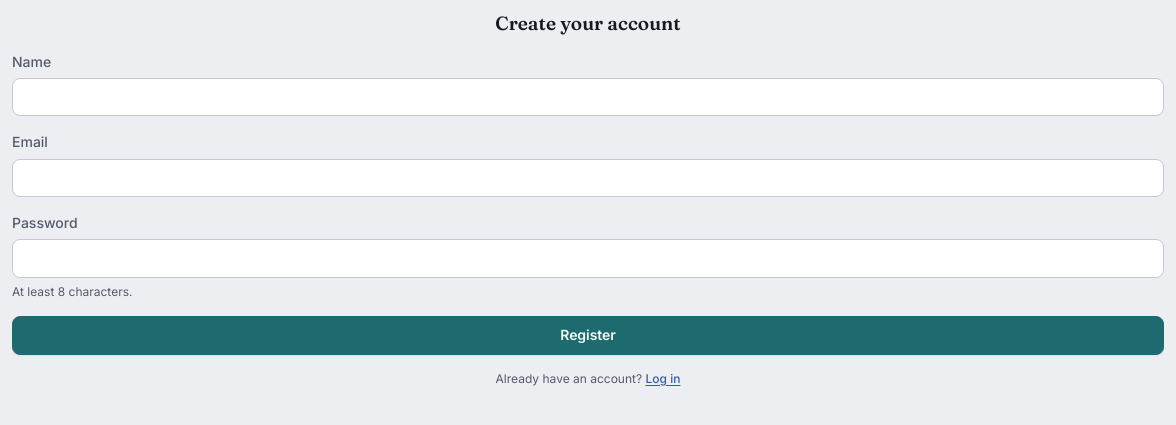
RegisterForm › requires a name
Type "ada@example.com" into the field labelled "Email". click: (588, 178)
box: [12,159,1164,197]
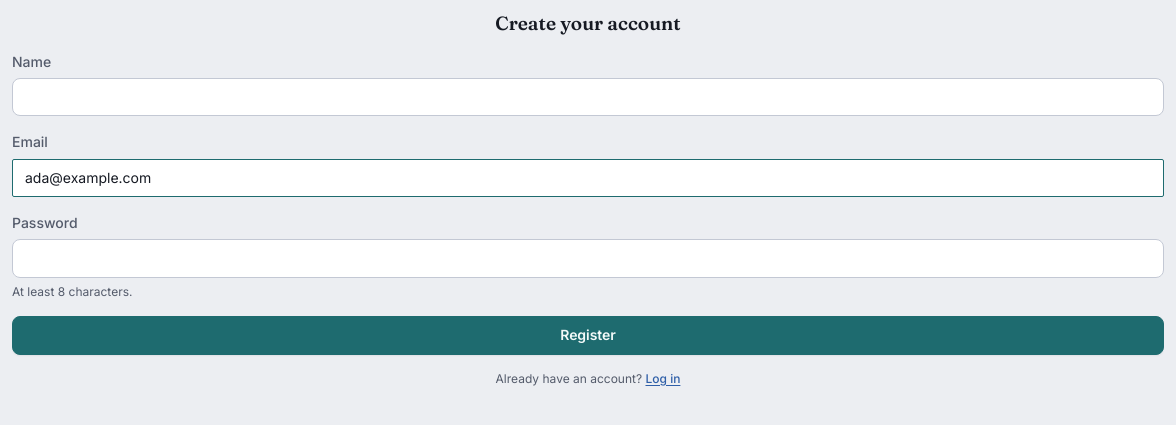
Type "longenoughpassword" into the password field labelled "Password". click: (588, 258)
box: [12,239,1164,278]
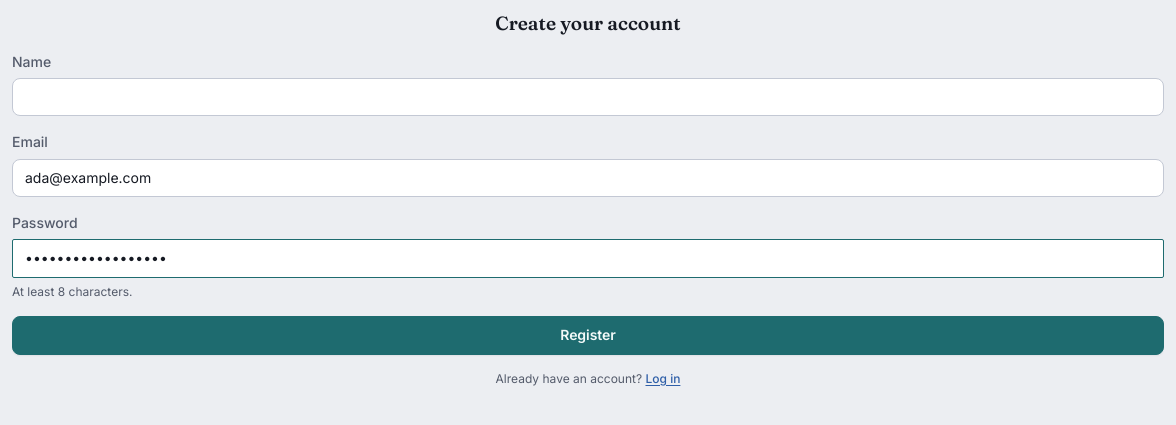
Click the button "Register". click: (588, 335)
box: [12,316,1164,355]
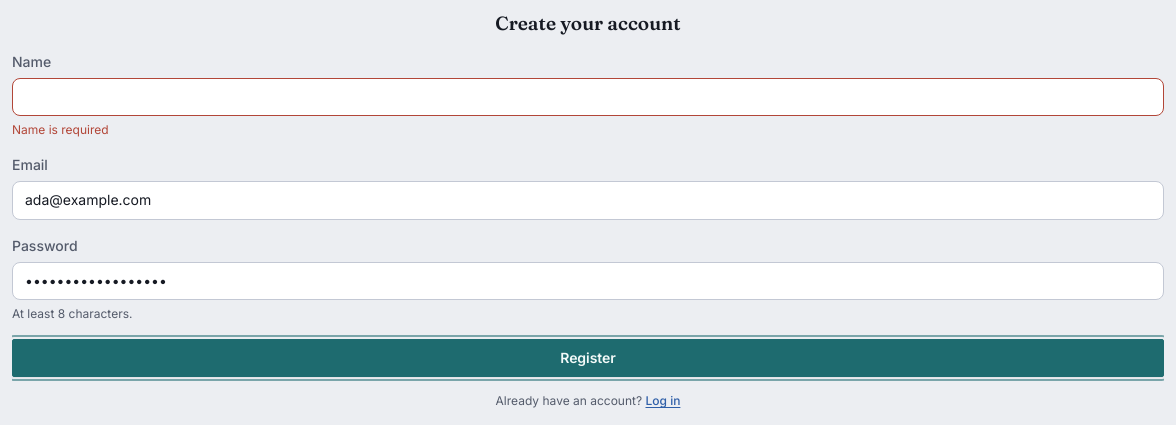
Check: the text "Name is required" is shown, box [12,122,109,137]
